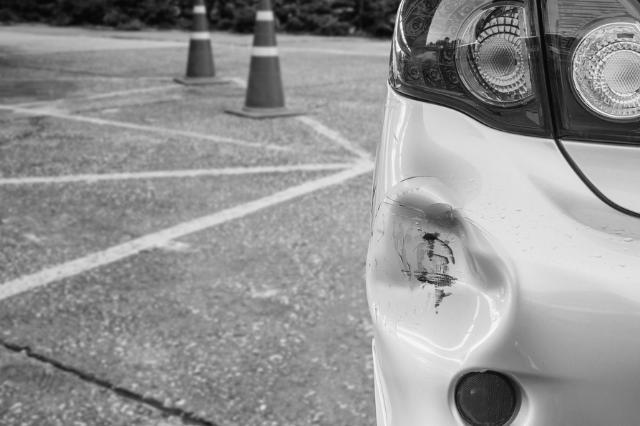Bumper: (359, 164, 532, 374)
